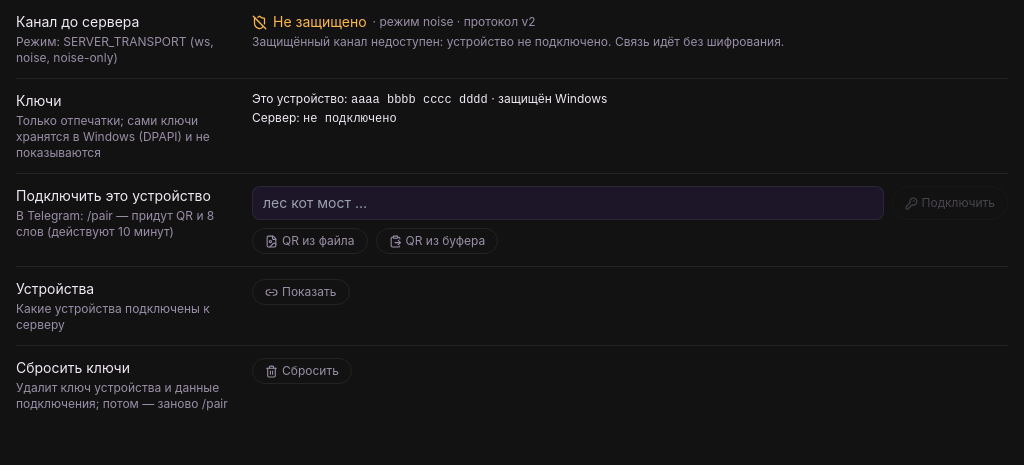
Test case: неверный код — понятная ошибка; список устройств — «сервер ещё не поддерживает»; сброс с подтверждением
Later steps or results of the test are not shown.
Expected: the element named "Состояние канала" is shown, [252,13,784,49]
In the field named "8 слов": [568, 203] box [252,186,884,220], type "один два три четыре пять шесть семь восемь"
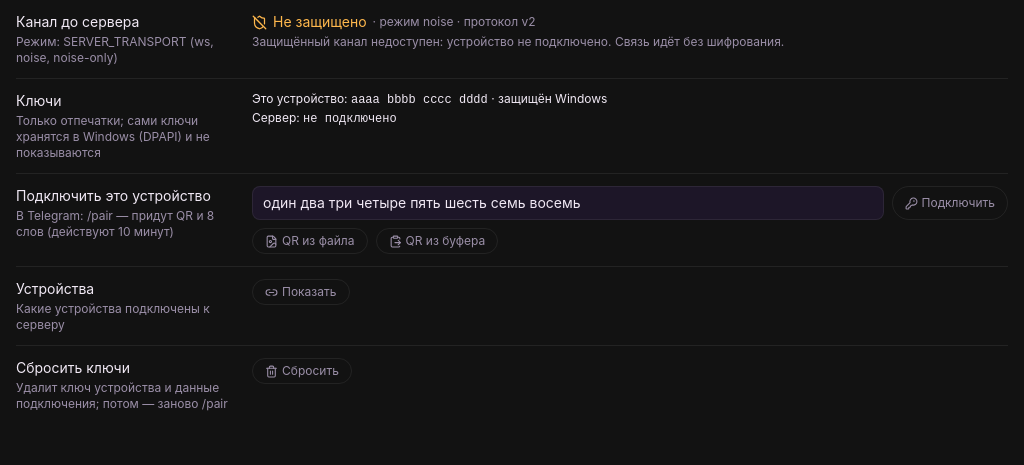
Click the button "Подключить": [950, 203] box [892,186,1008,220]
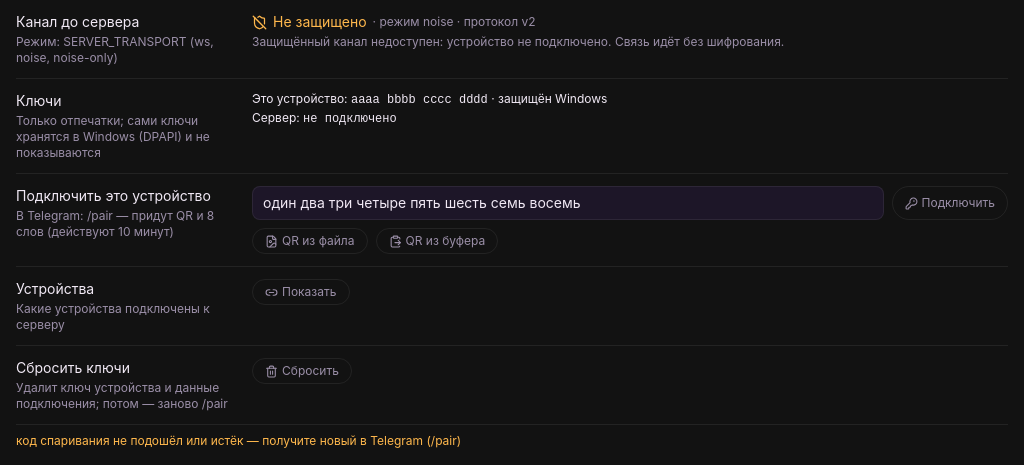
Expected: the message shows "не подошёл", [16,433,461,448]
Click the button "Показать": [301, 292] box [252,279,350,305]
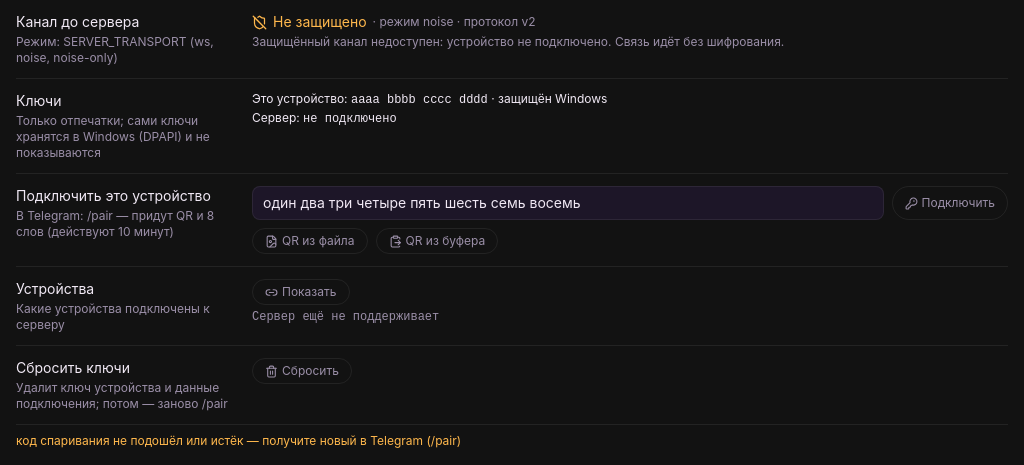
Expected: the text "Сервер ещё не поддерживает" is shown, [252,310,439,324]
